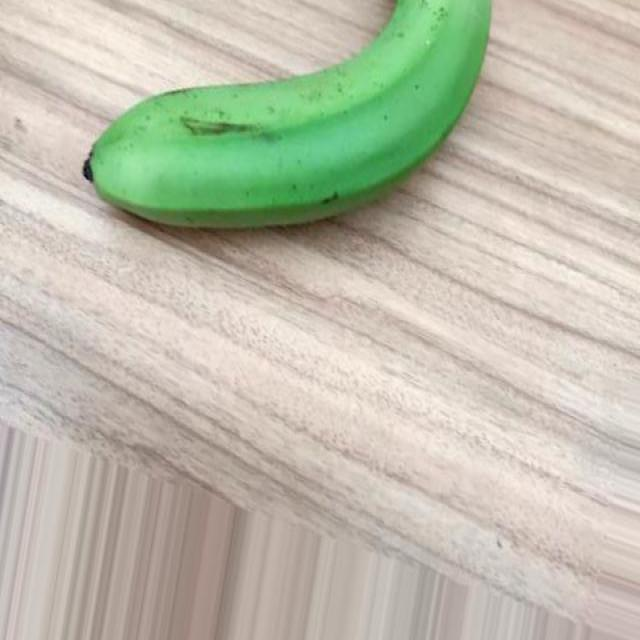Unripe: (83, 0, 493, 231)
